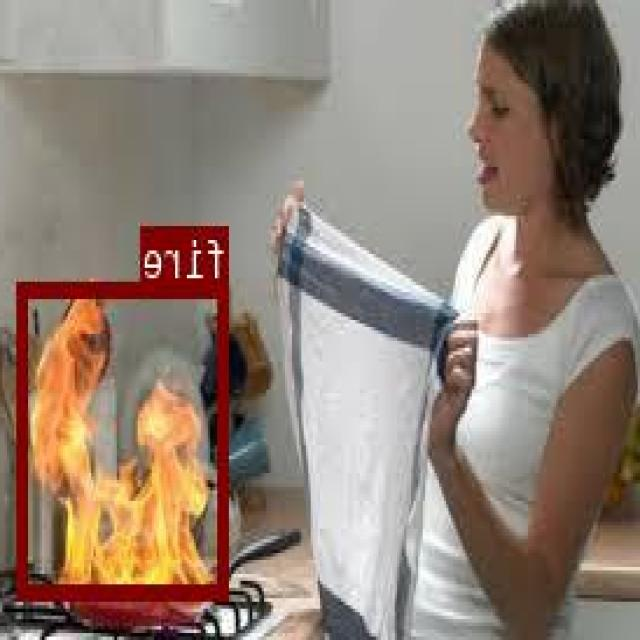fire: (19, 280, 230, 596)
